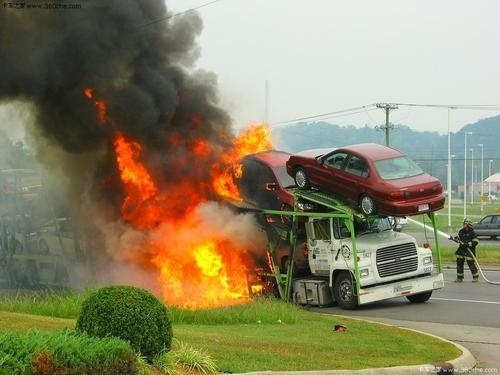fire: (112, 122, 270, 306)
